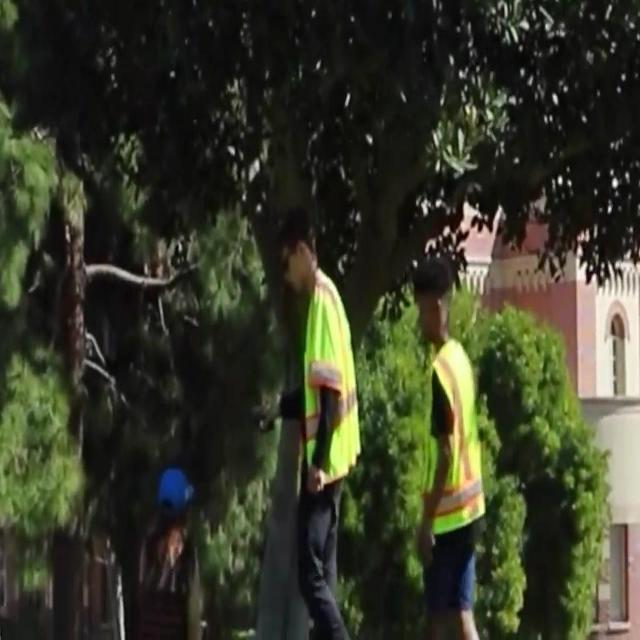Reflective-Jacket: (276, 262, 374, 523), (414, 328, 497, 554)
